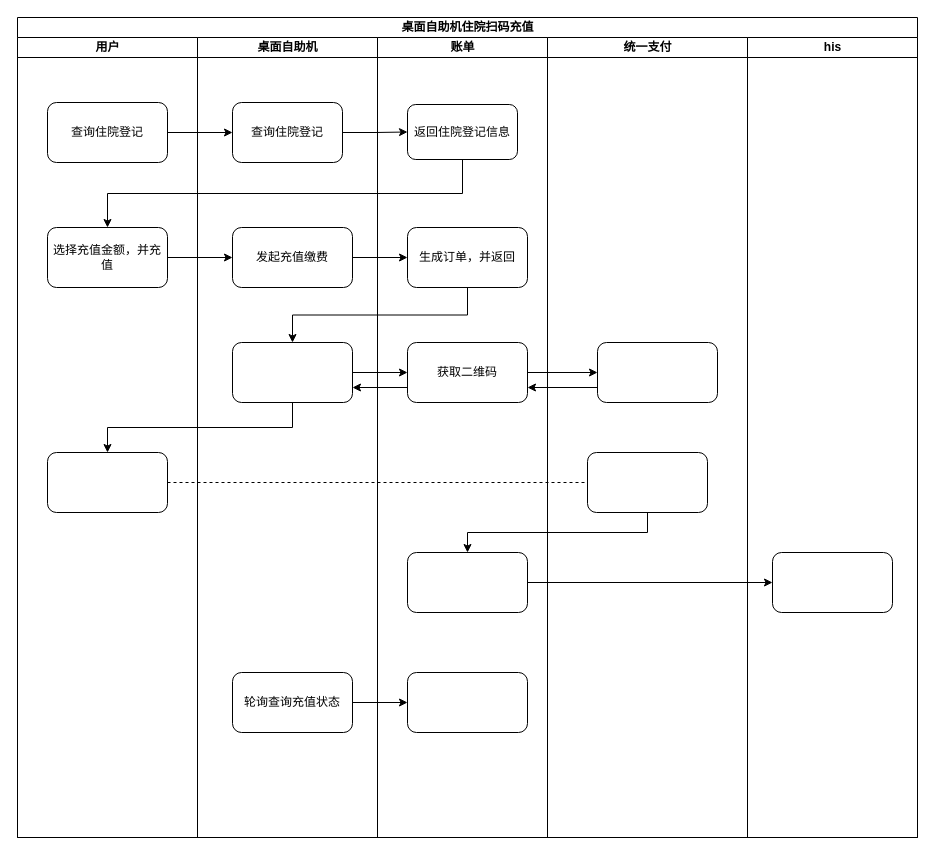
Image size: 935x855. Some labels were removed from this diagram. Here are the shapes that lost their labels. From the top down, the centre of each, then its label:
(292,372): 获取二维码url
(657,372): 返回二维码url
(107,482): 扫码并支付
(647,482): 异步通知支付结果
(467,582): 更新支付状态，并推送医院
(832,582): 更新充值记录
(467,702): 返回充值结果
